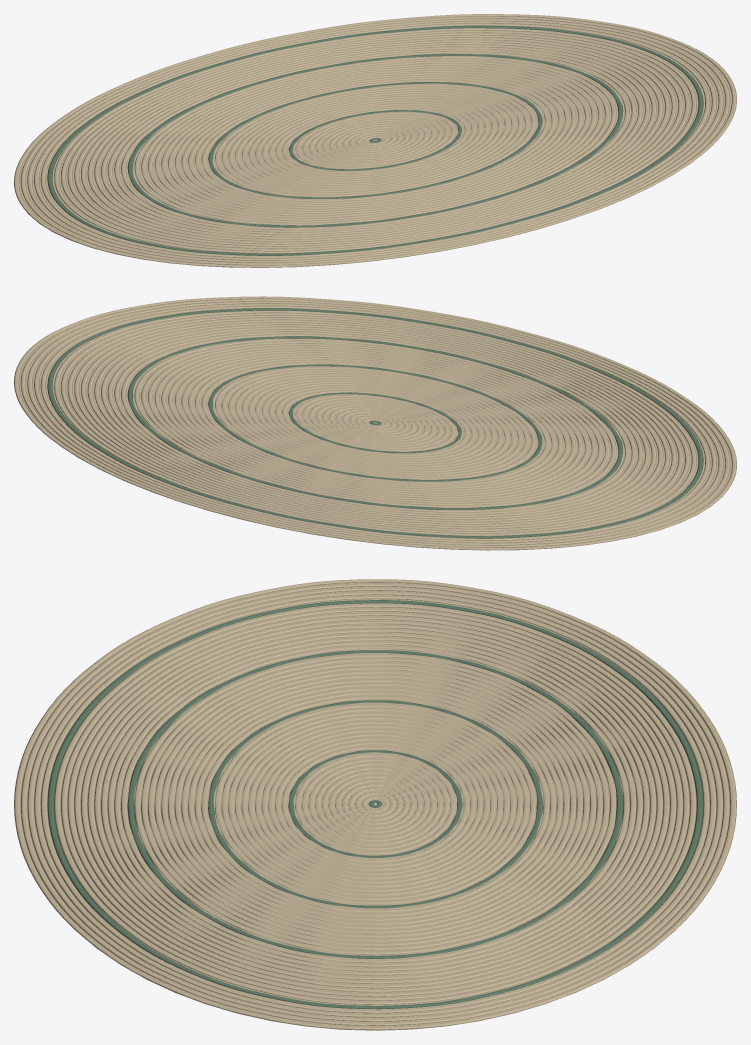
Rendered from rug-1.glb.
The picture shows the model from 3 angles, top to bottom: view 1: azimuth 30°, elevation 25°; view 2: azimuth 150°, elevation 25°; view 3: azimuth 270°, elevation 25°; orthographic projection. The views are drawn at different scales.
Visible parts, largest first — view 1: Woven backing, Braided oval.053, Braided oval.052, Braided oval.051, Braided oval.050, Braided oval.049, Braided oval.048, Braided oval.047, Braided oval.046, Braided oval.045, Braided oval.044, Braided oval.043 (+38 smaller); view 2: Woven backing, Braided oval.053, Braided oval.052, Braided oval.051, Braided oval.050, Braided oval.049, Braided oval.048, Braided oval.047, Braided oval.046, Braided oval.045, Braided oval.044, Braided oval.043 (+38 smaller); view 3: Woven backing, Braided oval.053, Braided oval.052, Braided oval.051, Braided oval.050, Braided oval.049, Braided oval.048, Braided oval.047, Braided oval.046, Braided oval.045, Braided oval.044, Braided oval.043 (+38 smaller).
Part boxes in pixels (x1,y1,x2,y2): Woven backing: [19, 18, 731, 267]; Braided oval.053: [14, 14, 736, 267]; Braided oval.052: [20, 16, 730, 265]; Braided oval.051: [27, 18, 723, 262]; Braided oval.050: [34, 21, 716, 260]; Braided oval.049: [40, 23, 710, 258]; Braided oval.048: [47, 25, 703, 255]; Braided oval.047: [54, 28, 696, 253]; Braided oval.046: [61, 30, 689, 251]; Braided oval.045: [67, 32, 683, 248]; Braided oval.044: [74, 35, 676, 246]; Braided oval.043: [81, 37, 669, 244]; Woven backing: [19, 299, 731, 550]; Braided oval.053: [14, 296, 736, 550]; Braided oval.052: [20, 298, 730, 547]; Braided oval.051: [27, 301, 723, 545]; Braided oval.050: [34, 303, 716, 543]; Braided oval.049: [40, 306, 710, 540]; Braided oval.048: [47, 308, 703, 538]; Braided oval.047: [54, 310, 696, 536]; Braided oval.046: [61, 313, 689, 533]; Braided oval.045: [67, 315, 683, 531]; Braided oval.044: [74, 317, 676, 528]; Braided oval.043: [81, 320, 669, 526]; Woven backing: [62, 582, 688, 1030]; Braided oval.053: [14, 579, 736, 1030]; Braided oval.052: [21, 583, 729, 1025]; Braided oval.051: [27, 587, 723, 1021]; Braided oval.050: [34, 591, 716, 1017]; Braided oval.049: [41, 596, 709, 1013]; Braided oval.048: [47, 600, 703, 1009]; Braided oval.047: [54, 604, 696, 1004]; Braided oval.046: [61, 608, 689, 1000]; Braided oval.045: [67, 612, 683, 996]; Braided oval.044: [74, 616, 676, 992]; Braided oval.043: [81, 621, 669, 988].
Bounding box in the file's own units: 1.98 × 0.00722 × 1.34.
